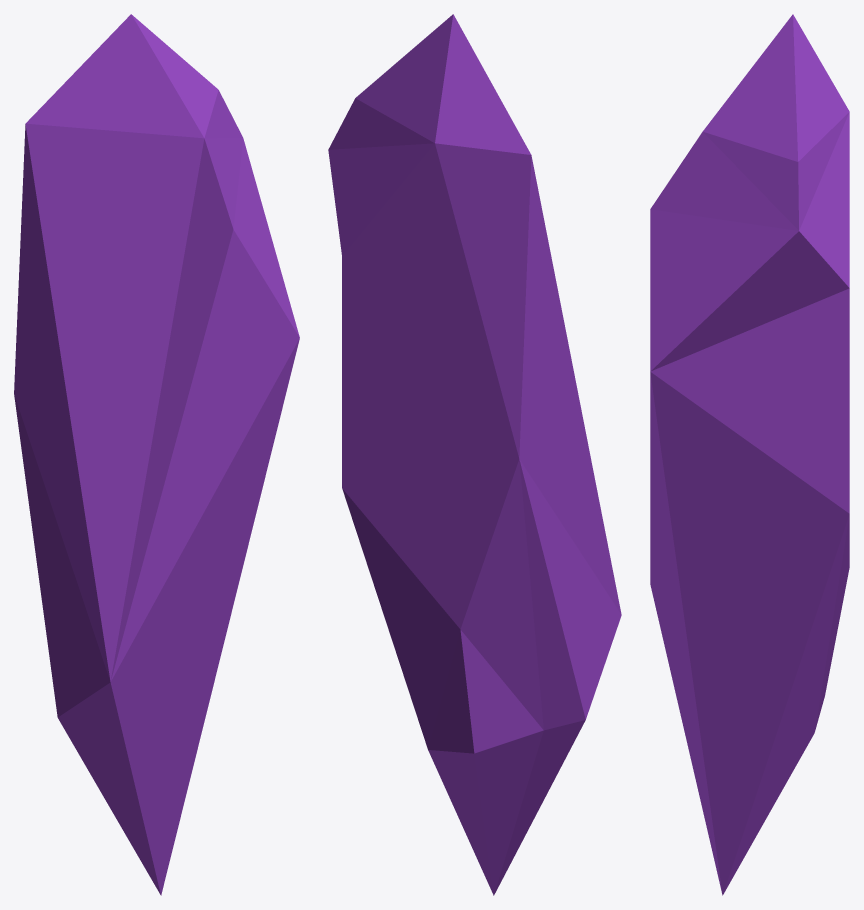
File: shard.glb
3 renders of one model, left to right at view 1: azimuth 30°, elevation 25°; view 2: azimuth 150°, elevation 25°; view 3: azimuth 270°, elevation 25°, orthographic. The views are drawn at different scales.
Visible parts, largest first — view 1: soul_shard; view 2: soul_shard; view 3: soul_shard.
Boxes of the visible parts, x1=… form: soul_shard: x1=14, y1=14, x2=299, y2=895; soul_shard: x1=328, y1=14, x2=621, y2=895; soul_shard: x1=650, y1=14, x2=849, y2=895.
Bounding box in the file's own units: 1.66 × 6.33 × 1.29.
